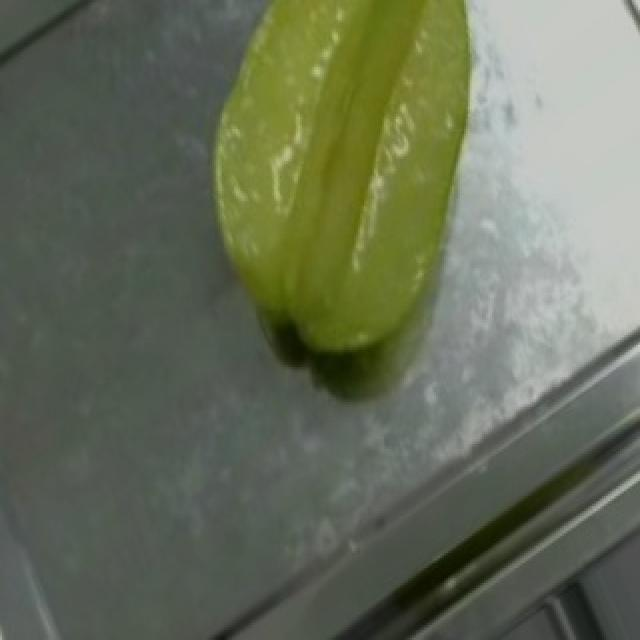fruit: (162, 0, 542, 362)
